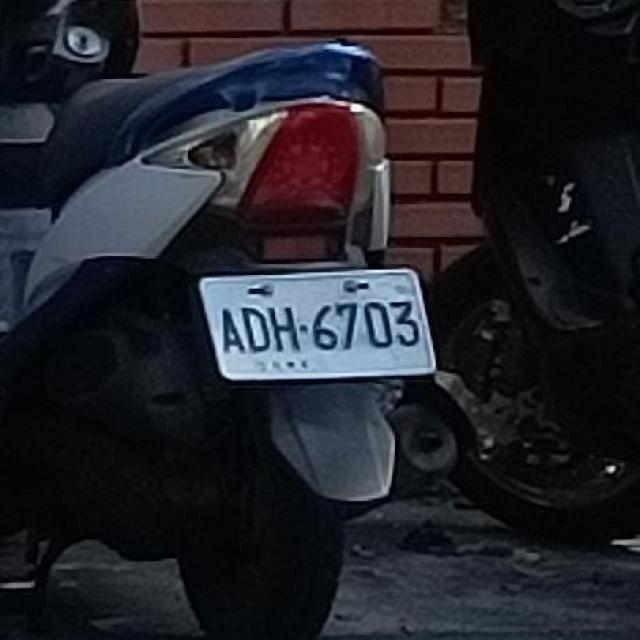W: (192, 257, 438, 393)
